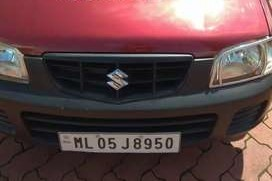ML05J8950: (58, 132, 179, 151)
